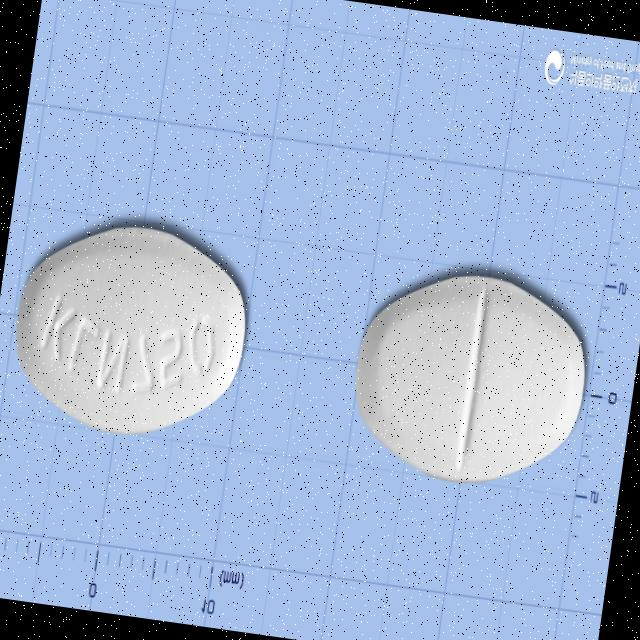Levo Plus: (3, 210, 260, 450), (343, 260, 598, 500)
